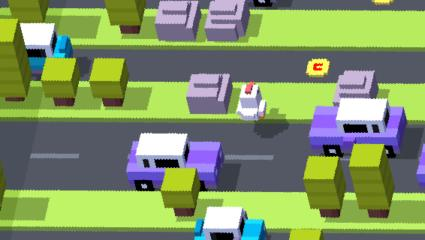hen: (235, 83, 266, 121)
obstacle: (130, 134, 225, 191), (311, 98, 395, 157), (19, 24, 74, 82), (0, 20, 30, 103), (196, 207, 269, 240), (306, 157, 344, 210), (156, 1, 204, 42), (185, 73, 233, 113), (89, 58, 128, 106), (162, 168, 201, 212), (207, 0, 249, 38), (43, 58, 75, 106), (335, 70, 378, 104), (107, 1, 146, 35), (8, 0, 48, 23), (288, 229, 323, 240), (226, 0, 281, 7), (319, 209, 341, 218), (368, 209, 389, 218), (175, 208, 195, 217)
